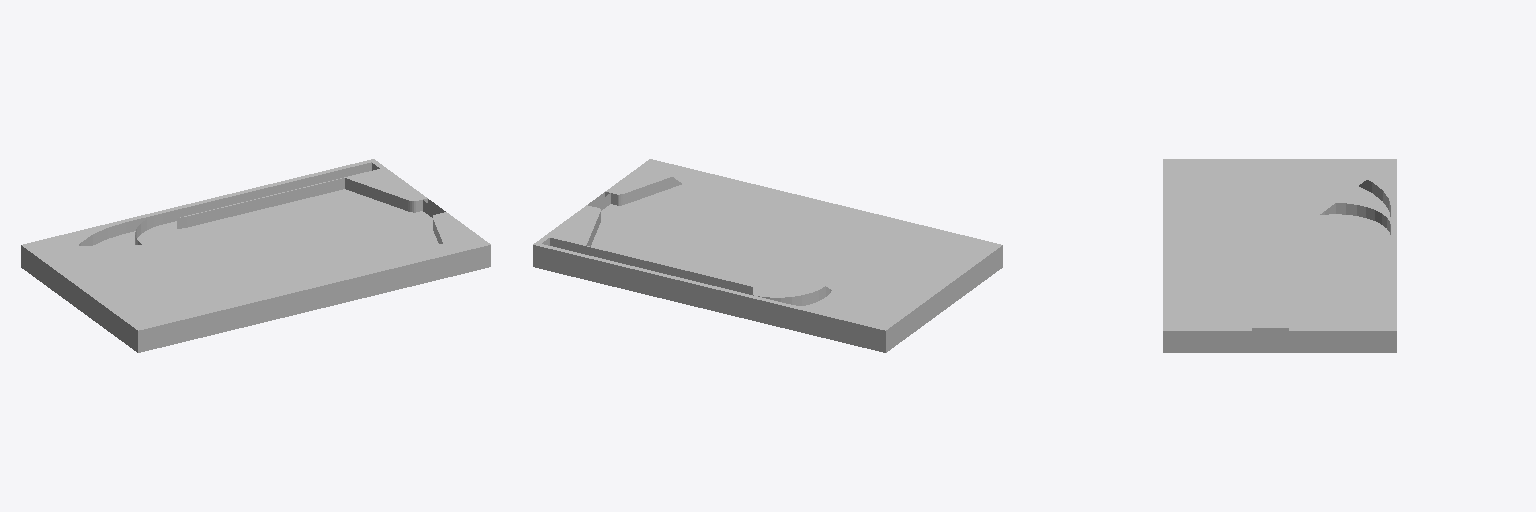
File: board1.obj
The picture shows the model from 3 angles: view 1: azimuth 30°, elevation 25°; view 2: azimuth 150°, elevation 25°; view 3: azimuth 270°, elevation 25°; orthographic projection.
Parts seen in each view (by area): view 1: Cube.005, Plane, Cube.002, Plane.001, Cylinder.001; view 2: Cube.005, Plane, Cube.002, Plane.001, Cylinder.001; view 3: Cube.005, Plane, Cylinder.001, Cube.002, Cylinder.002.
Part boxes in pixels (x1,y1,x2,y2): Cube.005: (21, 159, 490, 352); Plane: (93, 189, 438, 245); Cube.002: (345, 169, 481, 251); Plane.001: (177, 169, 378, 228); Cylinder.001: (31, 222, 233, 326); Cube.005: (533, 159, 1002, 352); Plane: (591, 184, 856, 309); Cube.002: (551, 162, 686, 246); Plane.001: (550, 237, 752, 294); Cylinder.001: (790, 223, 992, 326); Cube.005: (1163, 159, 1396, 352); Plane: (1189, 186, 1390, 327); Cylinder.001: (1169, 161, 1390, 216); Cube.002: (1169, 311, 1372, 327); Cylinder.002: (1320, 203, 1390, 234).
Size of the model in its own units: 6.6 by 0.4 by 3.8.